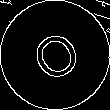O_SE: (23, 22, 87, 88)
